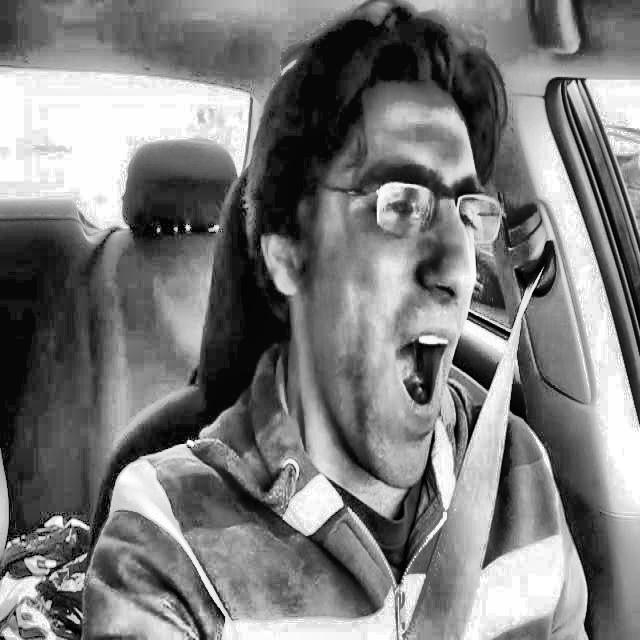open_mouth: (380, 310, 468, 444)
